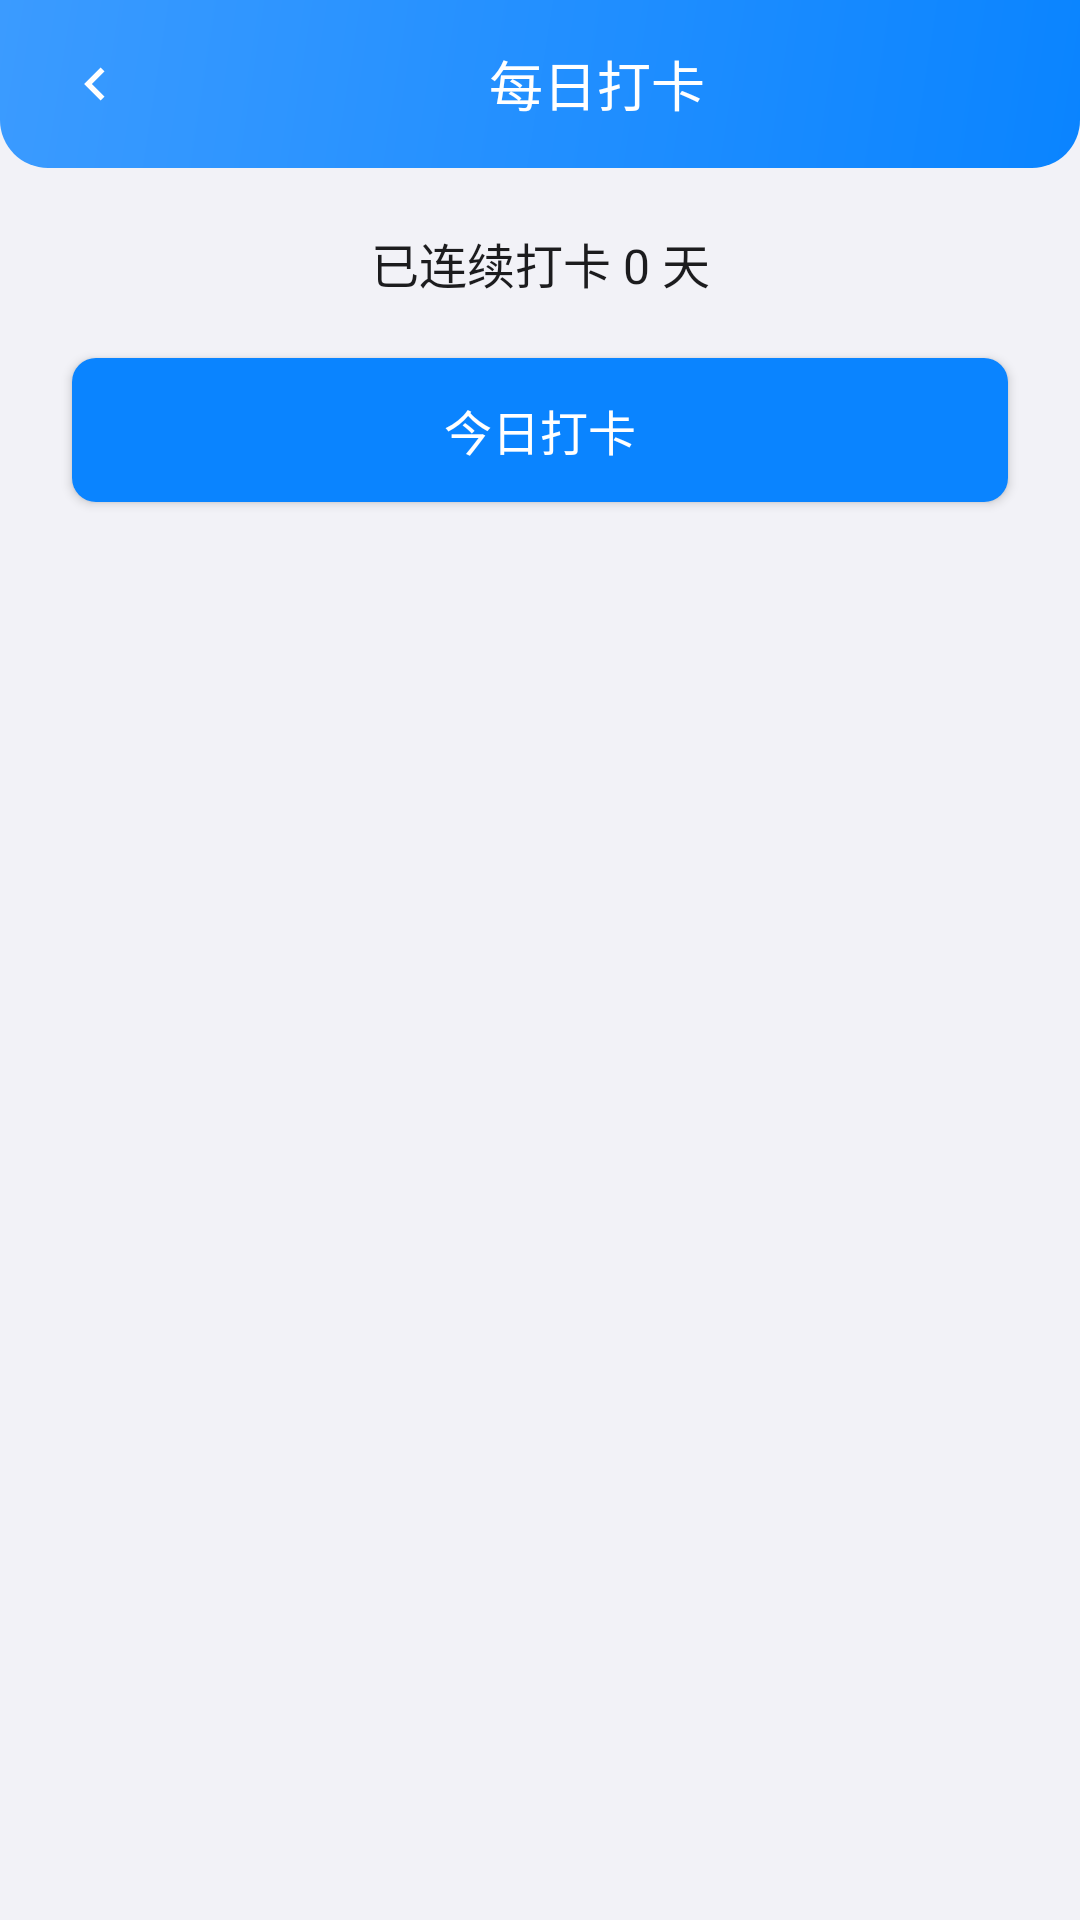

Screen size 1080px x 1920px. Icon name, then its box in pixels as (x1, y1, x2, y2):
返回: (84, 67, 105, 101)
